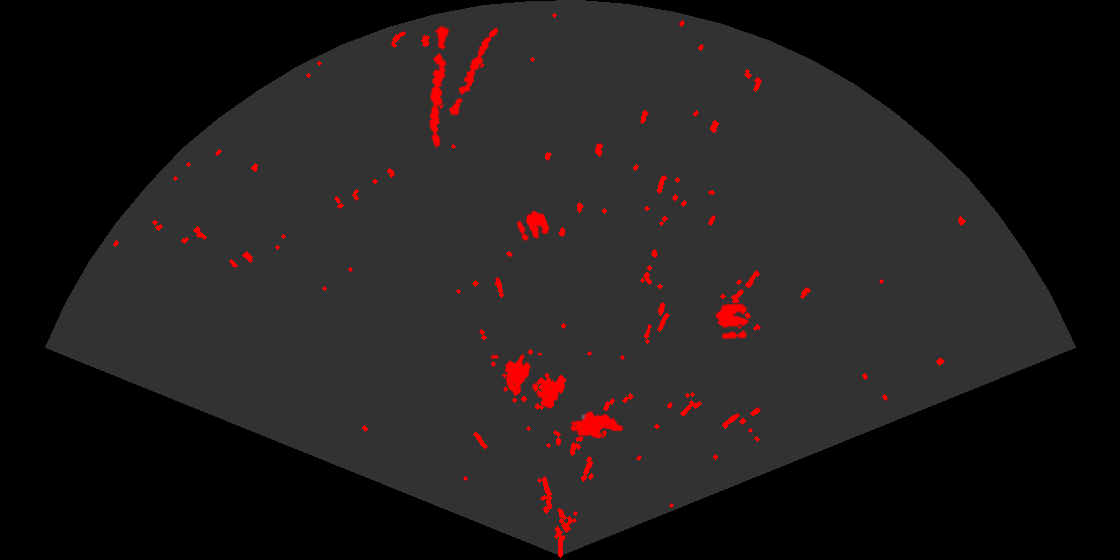AUV: (568, 410, 625, 440)
ball: (714, 302, 751, 341), (515, 209, 551, 243)
cage: (491, 353, 568, 410)
chain: (448, 26, 500, 117), (427, 23, 451, 149)
